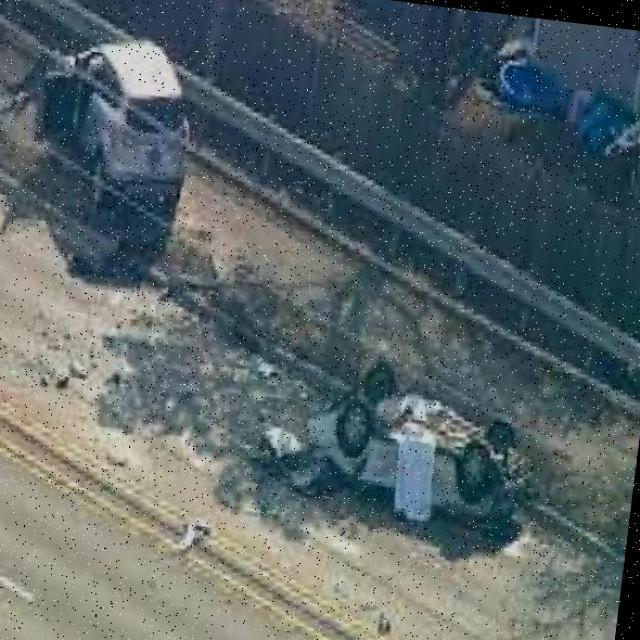accident: (293, 347, 548, 560), (5, 22, 221, 225)
